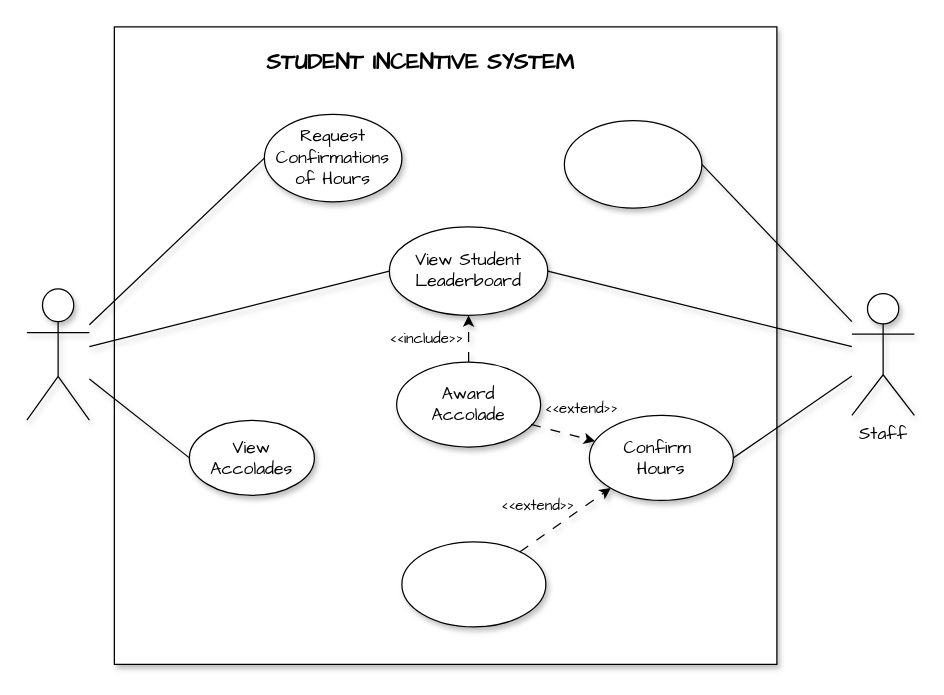
Image size: 944x695. Some labels were removed from this diagram. The shapes that lost their labels are listed below. From the top down, each one's centre as x and y in pixels, then its label:
At [633,165]: "Log Hours for Student".
At [59,356]: "Student".
At [474,586]: "Reject Confirmation".
